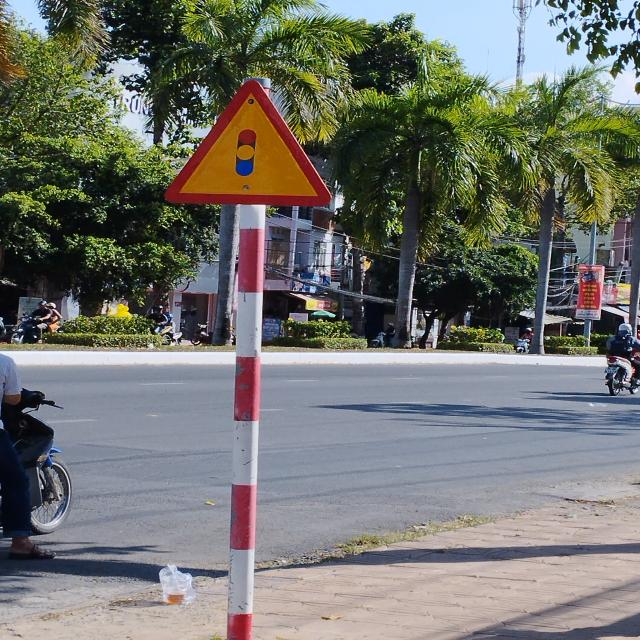Duong_Co_Go_Giam_Toc: (162, 78, 333, 208)
